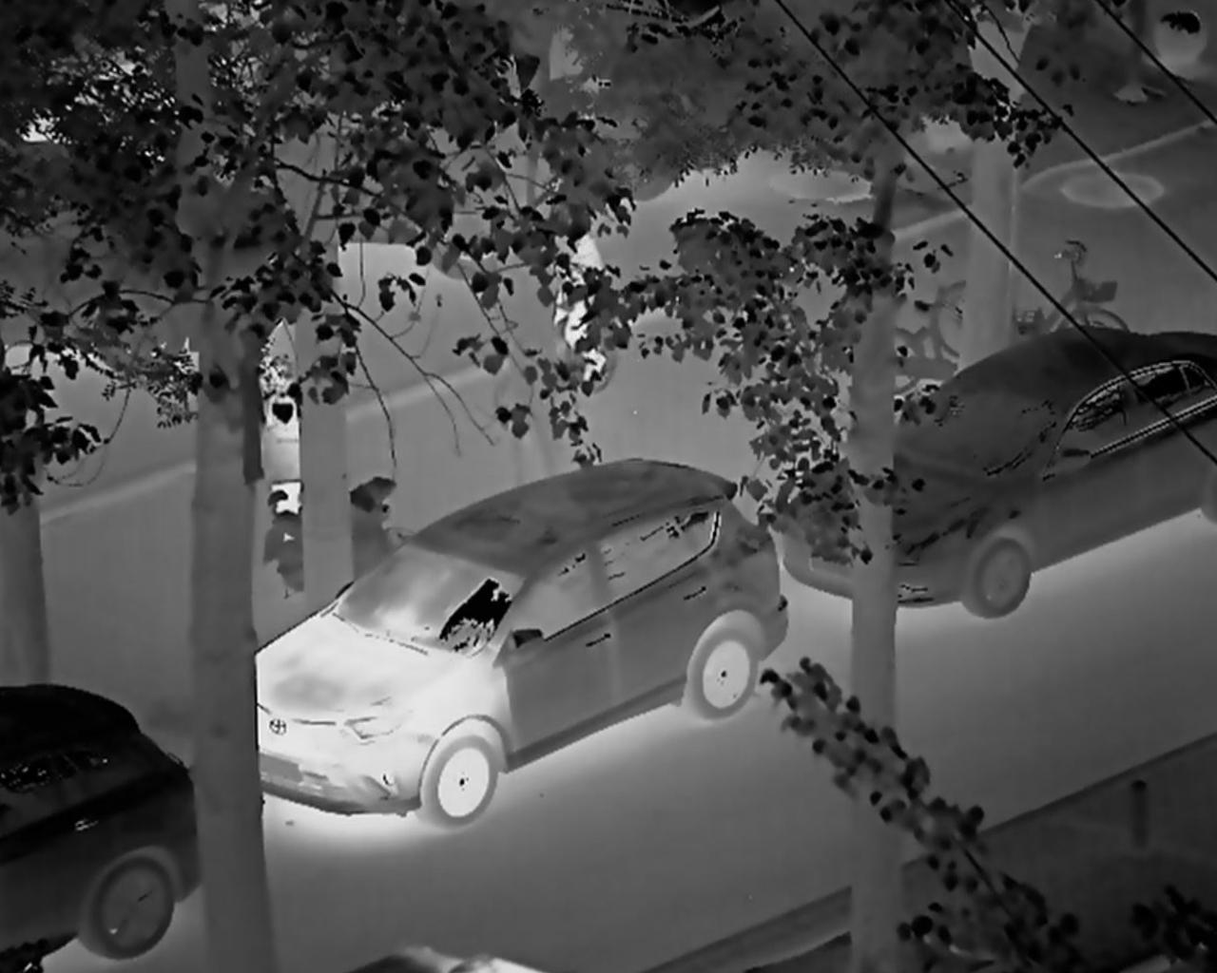person: (510, 201, 611, 389), (251, 356, 303, 581)
